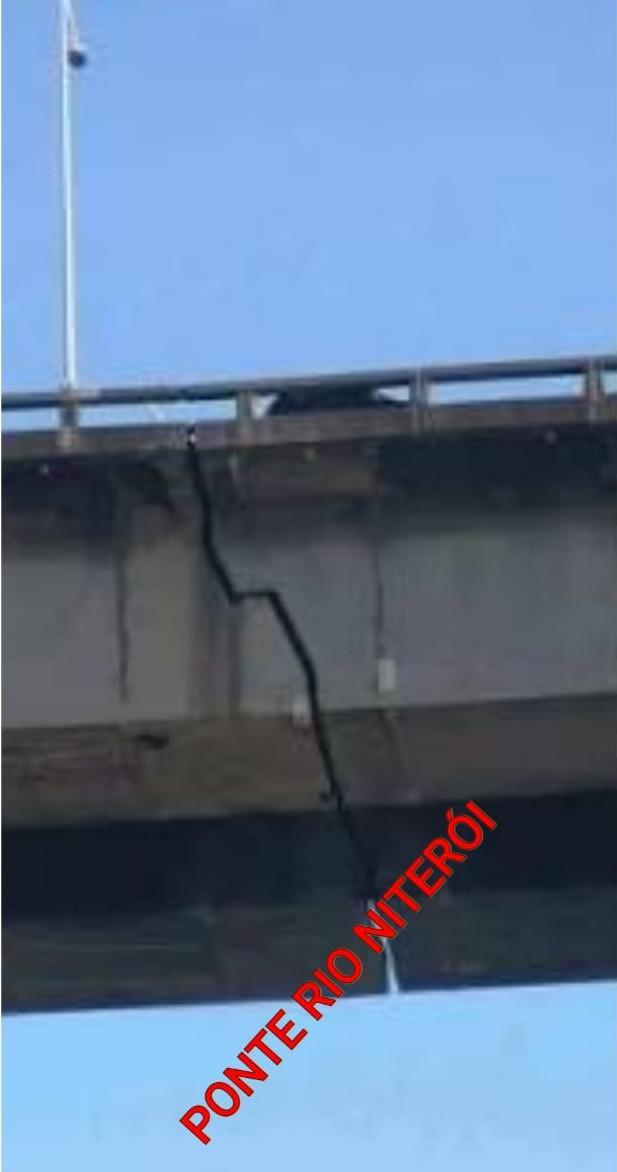crack: (185, 422, 402, 993)
